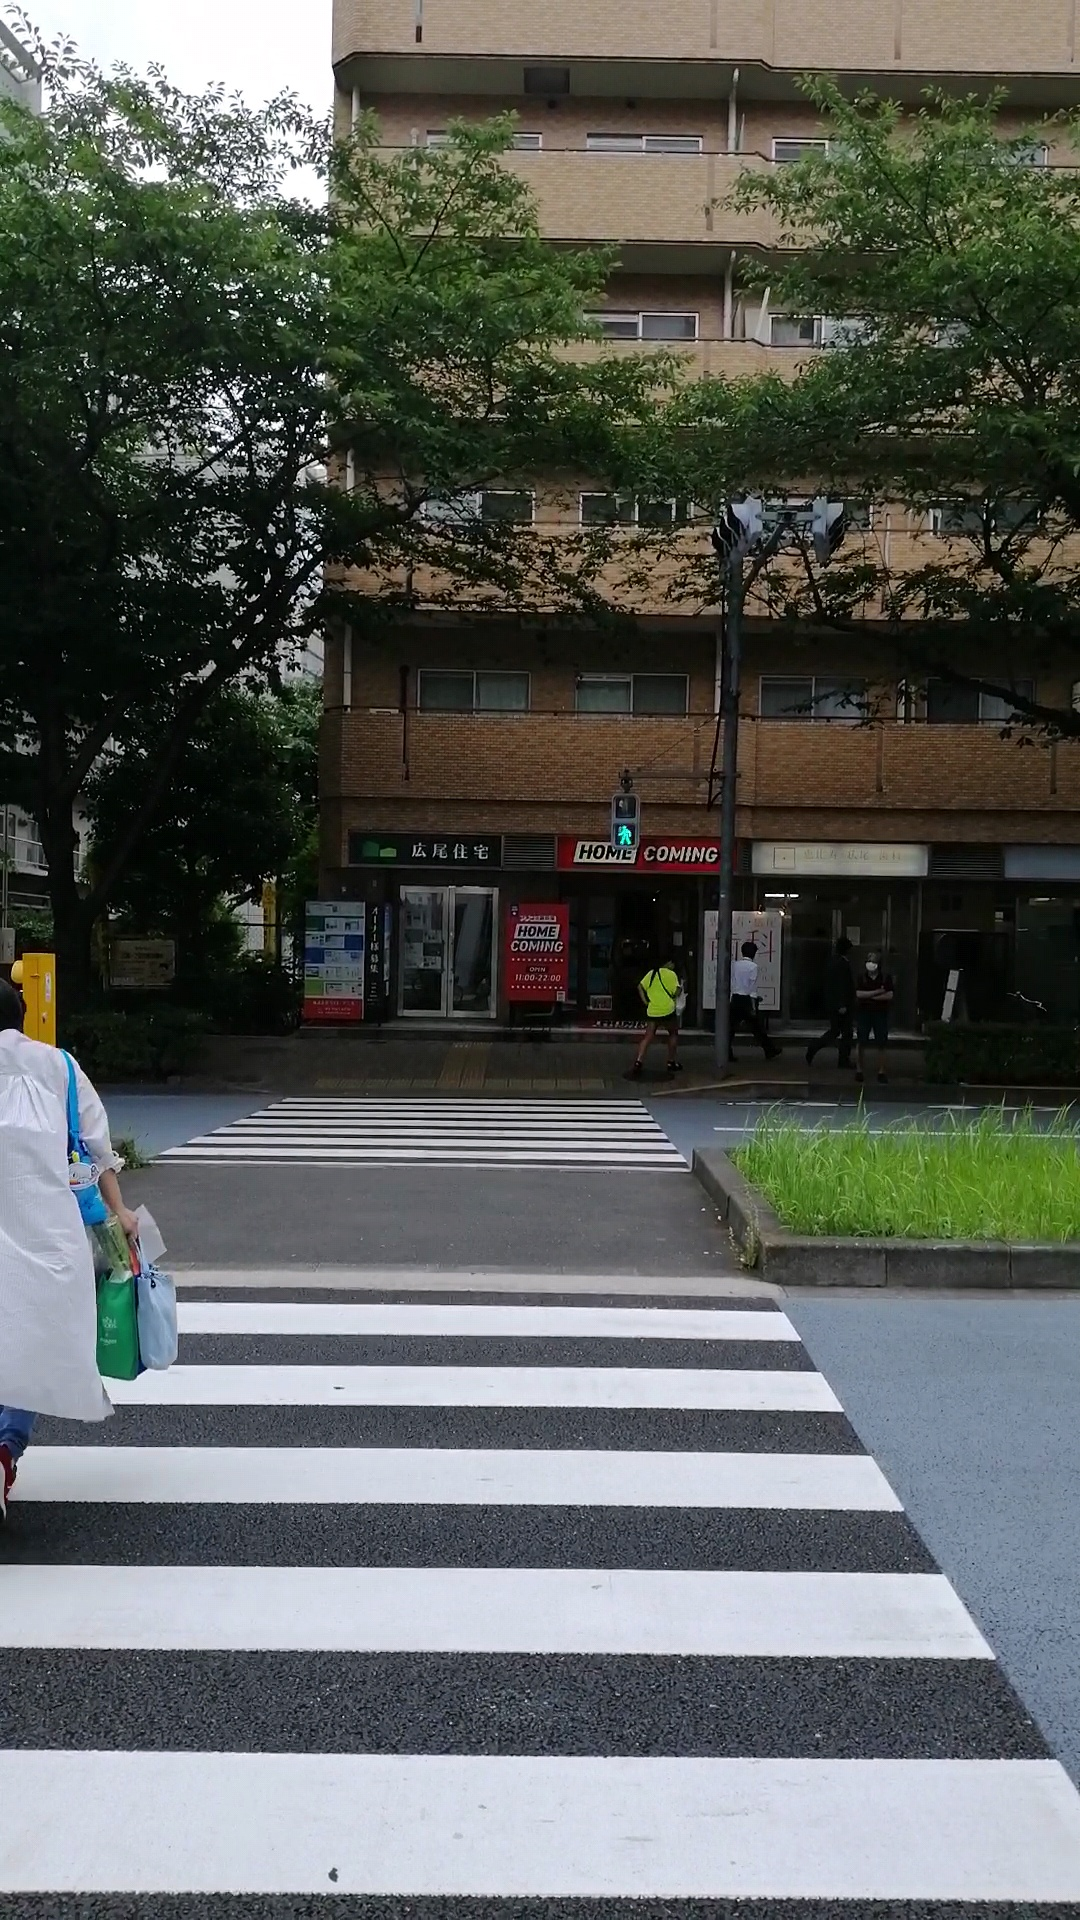green: (611, 793, 640, 851)
